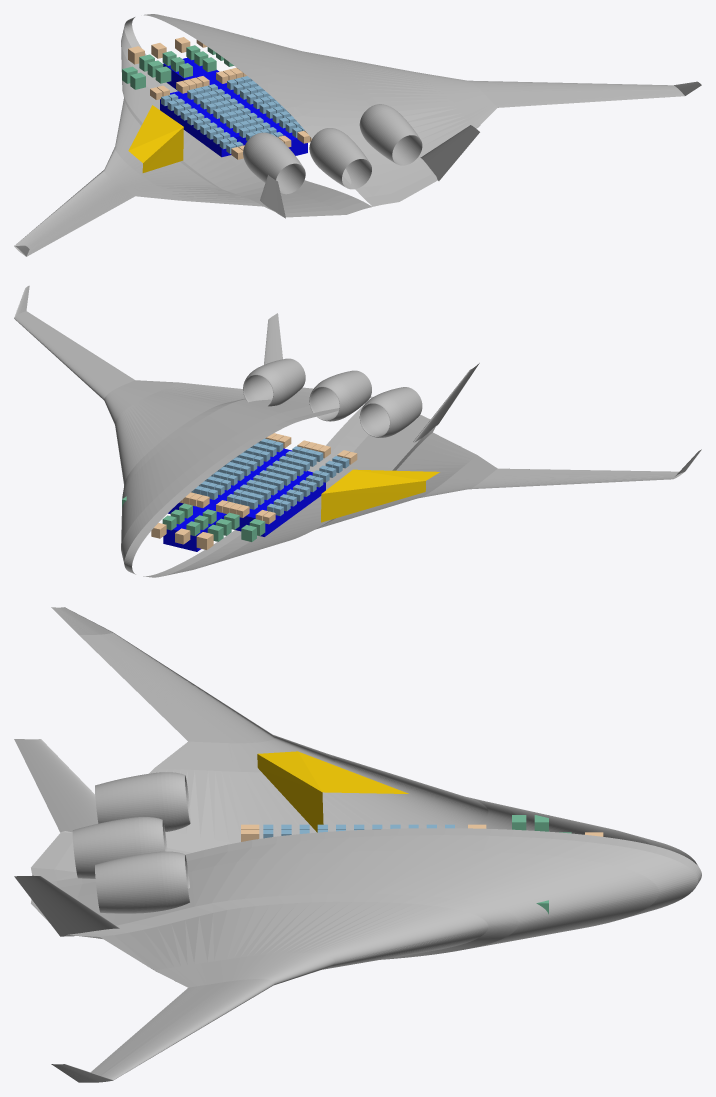
3 views of the same model, one above another, from view 1: azimuth 30°, elevation 25°; view 2: azimuth 150°, elevation 25°; view 3: azimuth 270°, elevation 25° (orthographic). The views are drawn at different scales.
Visible parts, largest first — view 1: Renderer Node; view 2: Renderer Node; view 3: Renderer Node.
Boxes of the visible parts, x1=… form: Renderer Node: x1=14, y1=14, x2=701, y2=256; Renderer Node: x1=14, y1=285, x2=701, y2=577; Renderer Node: x1=14, y1=607, x2=701, y2=1082.
Size of the model in its own units: 48.37 by 5.98 by 30.78.
